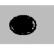correct: (5, 12, 40, 39)
